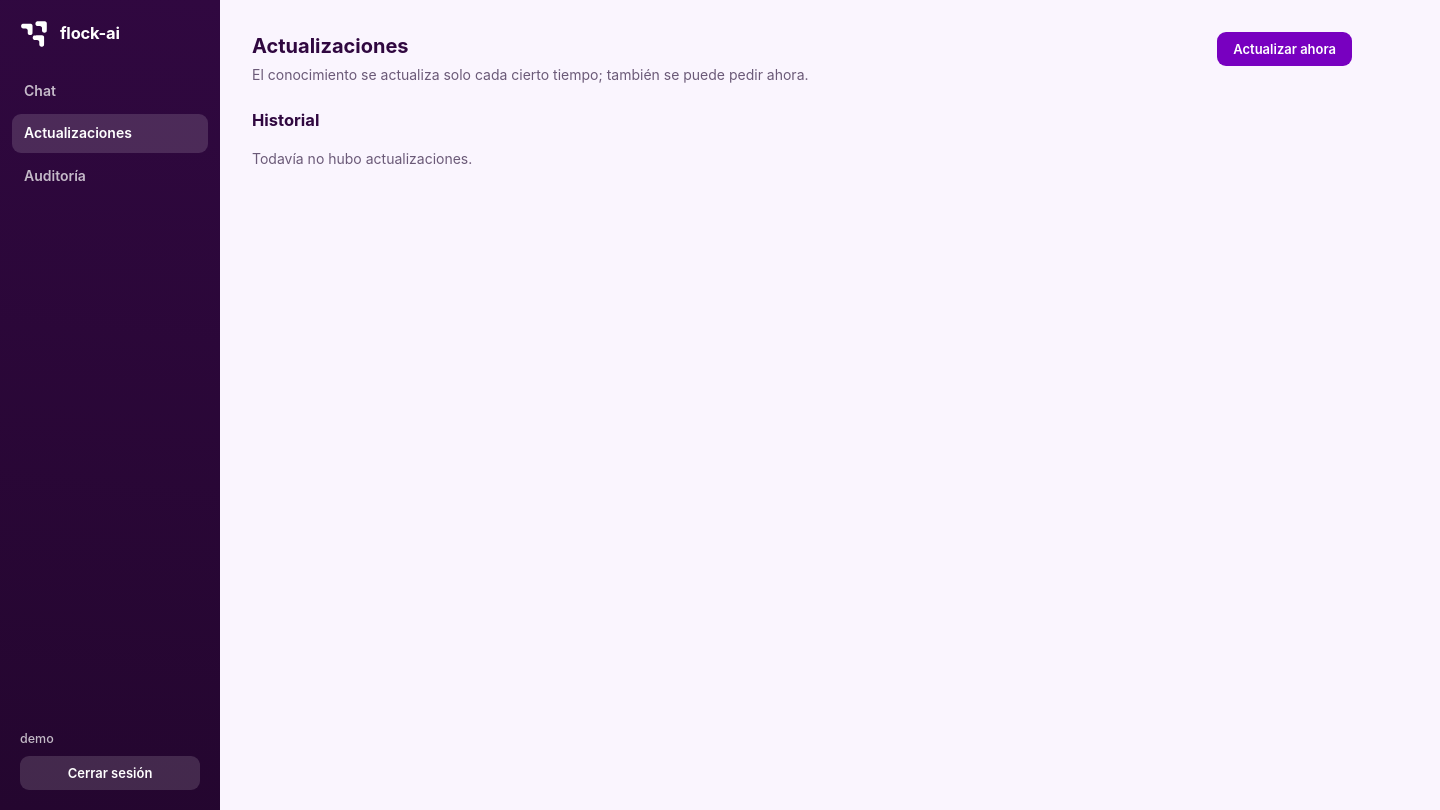
Test: updates screen › tells when the update could not be requested
The width and height of the screenshot is (1440, 810).
Expected: the text "Todavía no hubo actualizaciones." is shown, [252,150,472,167]
Click the button "Actualizar ahora" at (1285, 49), box [1217,32,1352,66]
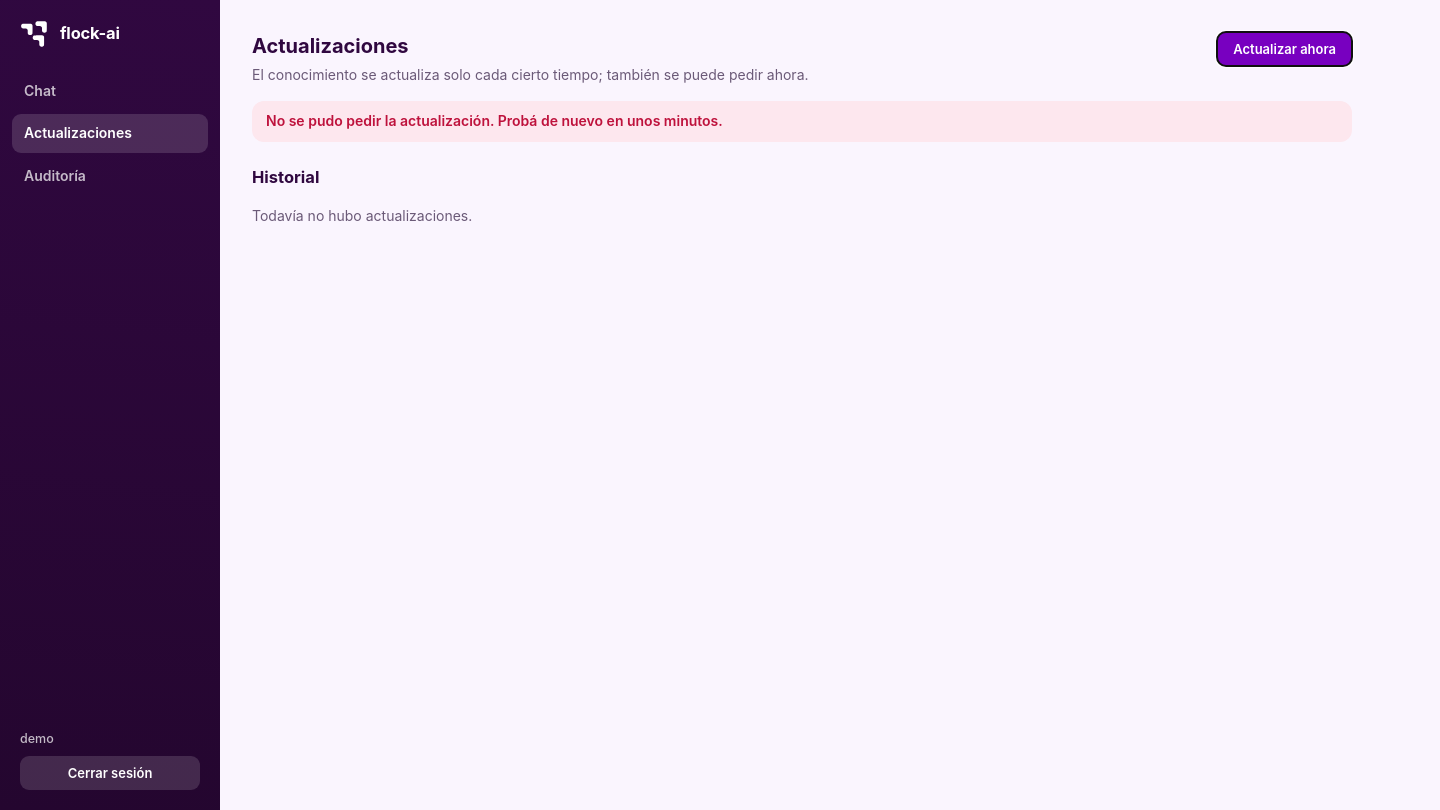
Result: the message shows "No se pudo pedir la actualización." at [266,112,723,129]
